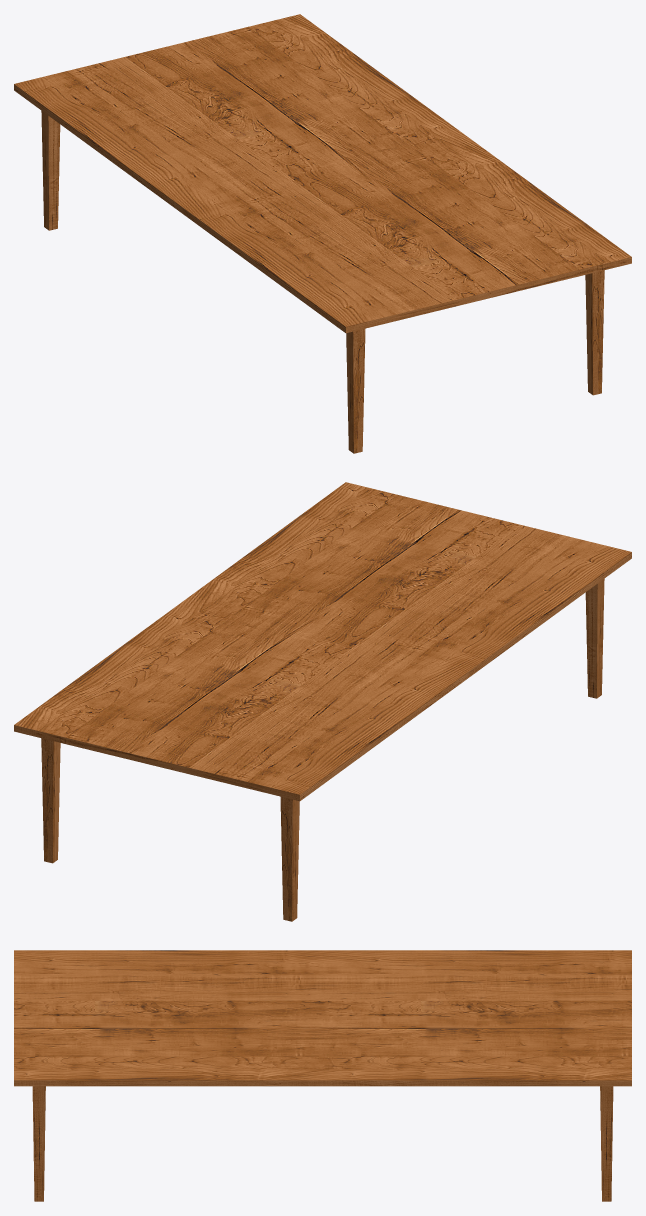
Rendered from table_1.fbx.
3 renders of one model, top to bottom at view 1: azimuth 30°, elevation 25°; view 2: azimuth 150°, elevation 25°; view 3: azimuth 270°, elevation 25°, orthographic. The views are drawn at different scales.
Parts seen in each view (by area): view 1: table_1; view 2: table_1; view 3: table_1.
Boxes of the visible parts, left/top/right/bottom form: table_1: left=14, top=14, right=631, bottom=453; table_1: left=14, top=482, right=631, bottom=921; table_1: left=14, top=950, right=631, bottom=1201.
Size of the model in its own units: 2.44 by 1.14 by 4.9.
